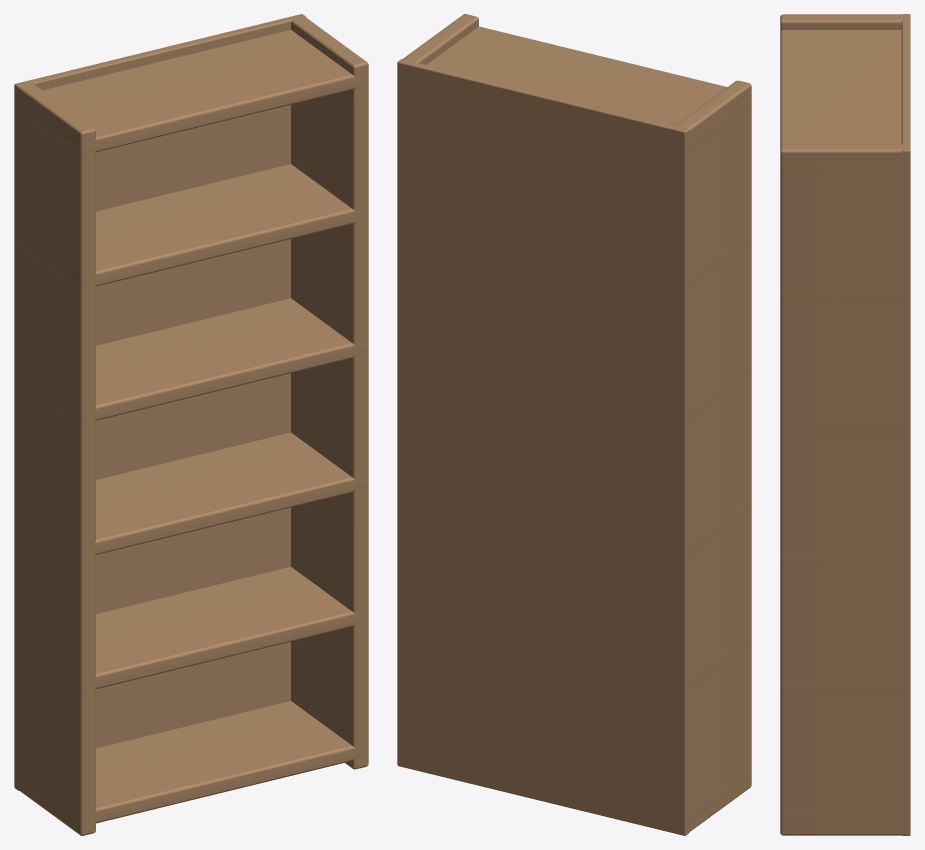
Rendered from atelier-pantry-cabinet.glb.
The picture shows the model from 3 angles, left to right: view 1: azimuth 30°, elevation 25°; view 2: azimuth 150°, elevation 25°; view 3: azimuth 270°, elevation 25°; orthographic projection. The views are drawn at different scales.
Visible parts, largest first — view 1: legs.101; view 2: legs.101; view 3: legs.101.
Boxes of the visible parts, x1,y1,x2,y2 form: legs.101: (14,14,368,835); legs.101: (397,14,751,835); legs.101: (780,14,910,835).
Size of the model in its own units: 0.9 by 2.1 by 0.3625.
